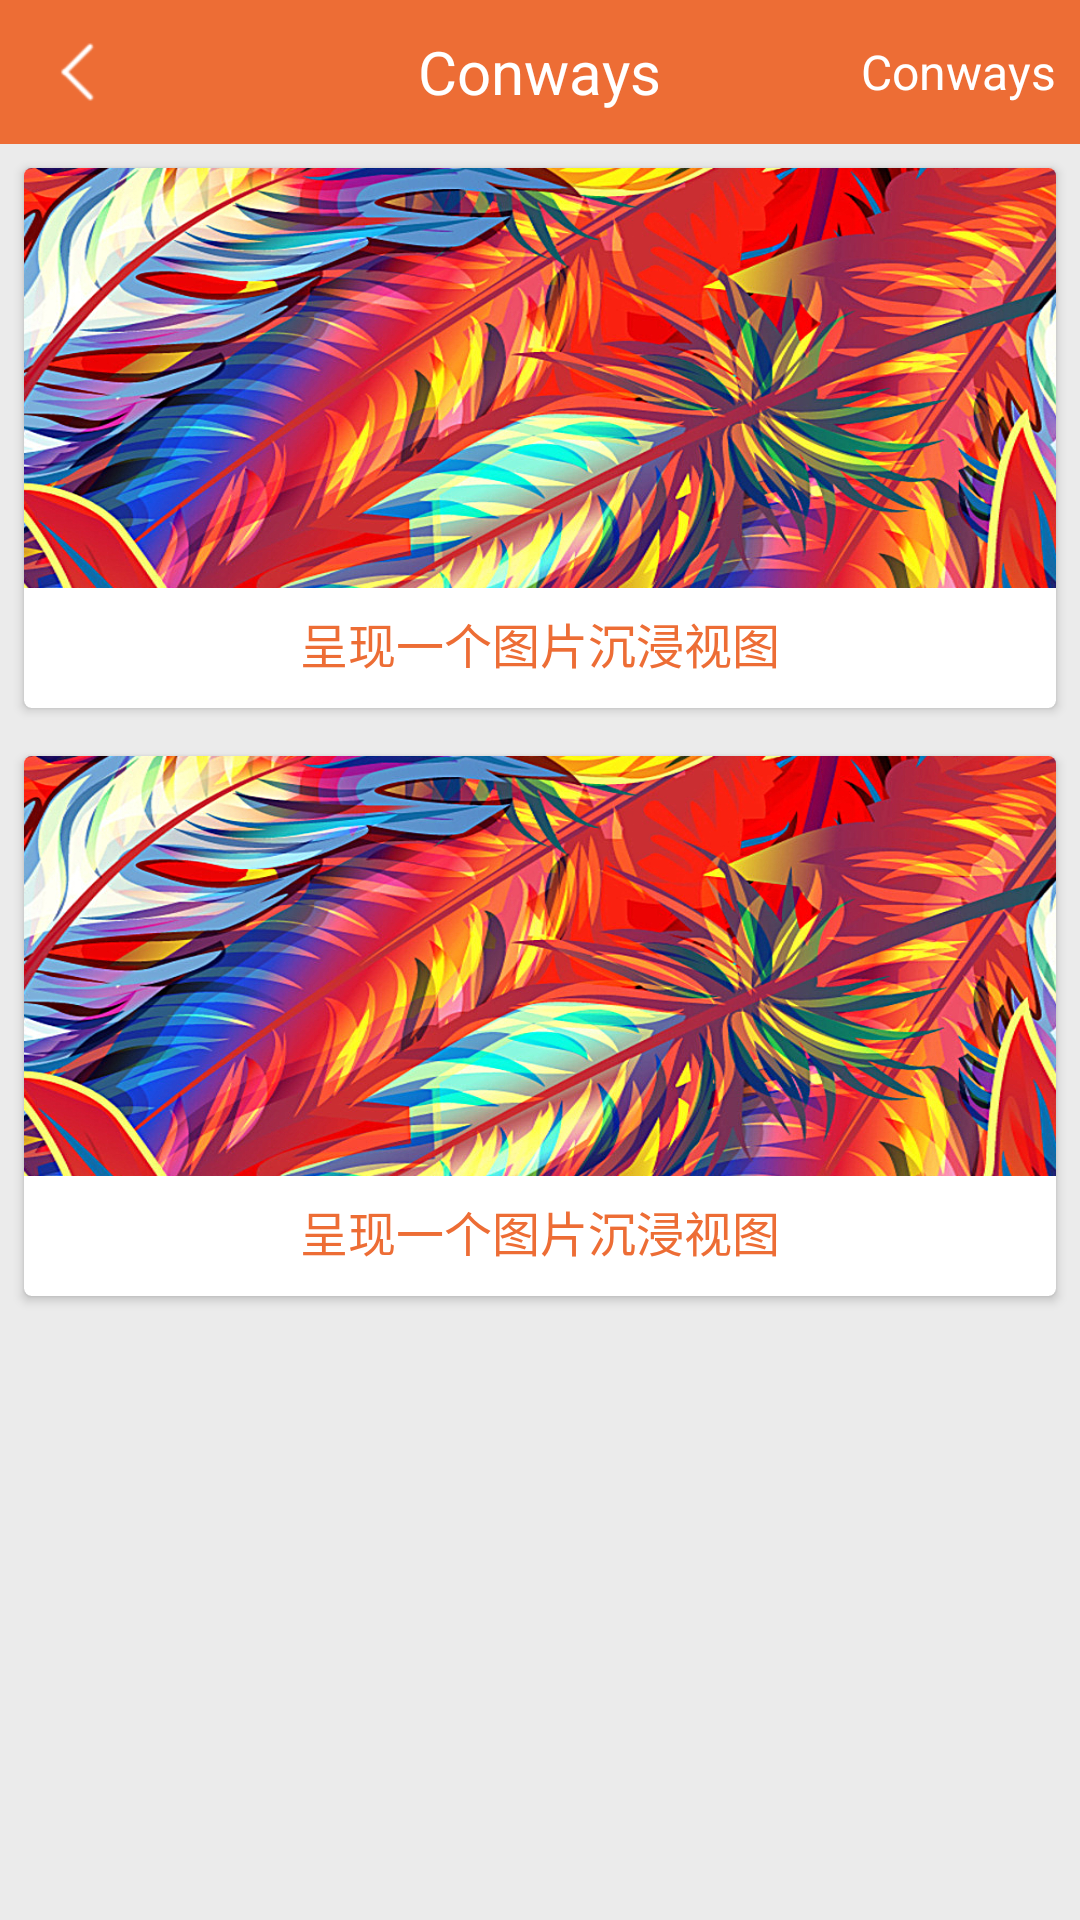

Locate icon controls on the screen. Image size 1080 × 1920, boxes as (x1, y1, x2, y2).
arrow back: (61, 43, 94, 101)
